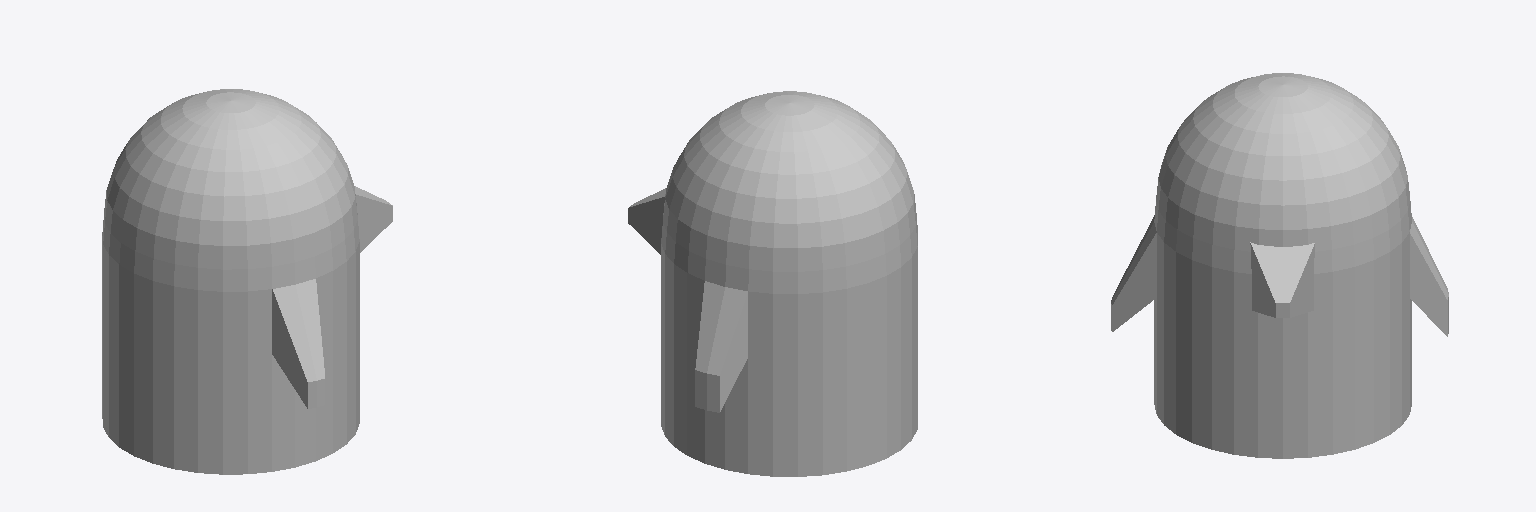
The model's file is peguin2.obj.
The picture shows the model from 3 angles: view 1: azimuth 30°, elevation 25°; view 2: azimuth 150°, elevation 25°; view 3: azimuth 270°, elevation 25°; orthographic projection.
Parts seen in each view (by area): view 1: Sphere, Cube_Cube.002; view 2: Sphere, Cube_Cube.002; view 3: Sphere, Cube_Cube.002.
Part boxes in pixels (left/top/right/bottom): Sphere: left=102, top=89, right=359, bottom=474; Cube_Cube.002: left=355, top=186, right=392, bottom=252; Sphere: left=661, top=91, right=917, bottom=476; Cube_Cube.002: left=628, top=188, right=665, bottom=254; Sphere: left=1111, top=73, right=1448, bottom=458; Cube_Cube.002: left=1250, top=242, right=1314, bottom=317.
Size of the model in its own units: 3.68 by 4.16 by 3.98.